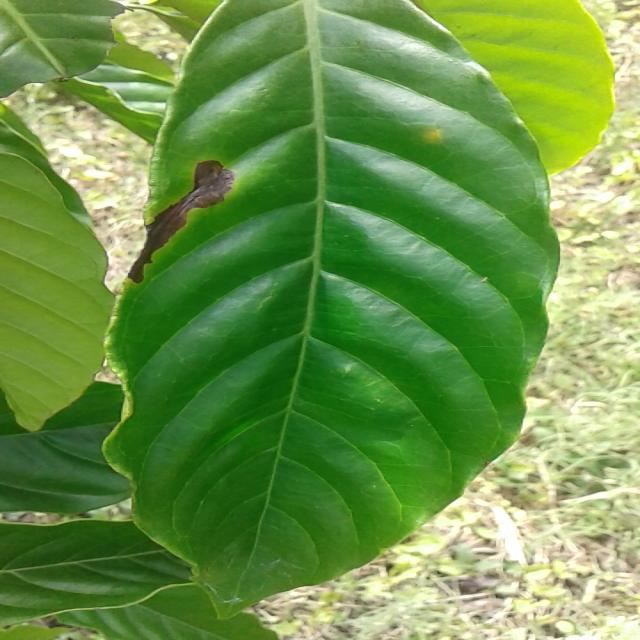Plaga-AranaRoja: (94, 0, 562, 624)
